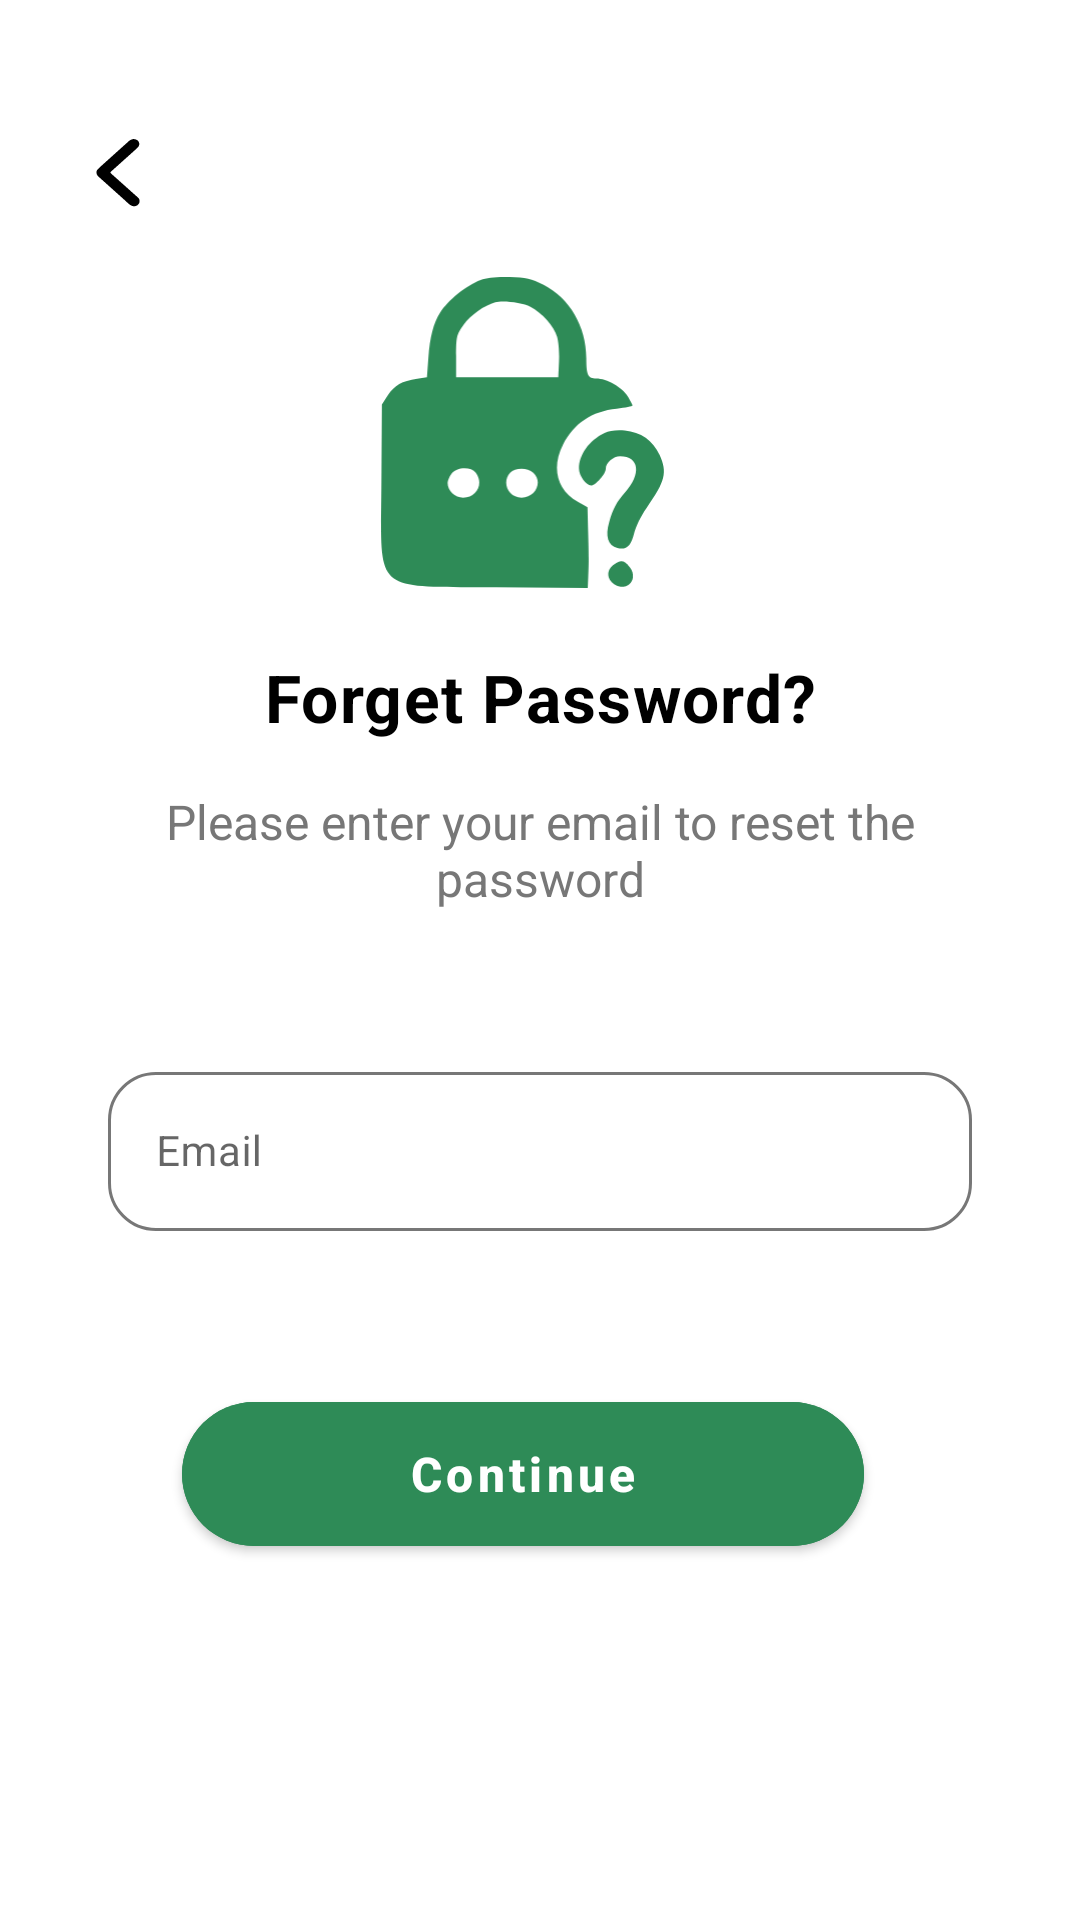

Icon bounding boxes for this 1080px x 1920px phone screenshot, format {"left": x1, "top": y1, "right": x2, "bottom": y2}:
left: {"left": 96, "top": 139, "right": 140, "bottom": 207}
reset password: {"left": 381, "top": 277, "right": 664, "bottom": 588}
